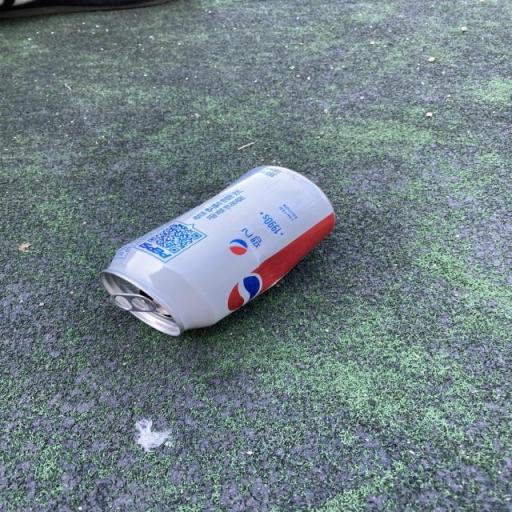metal: (49, 138, 406, 414)
